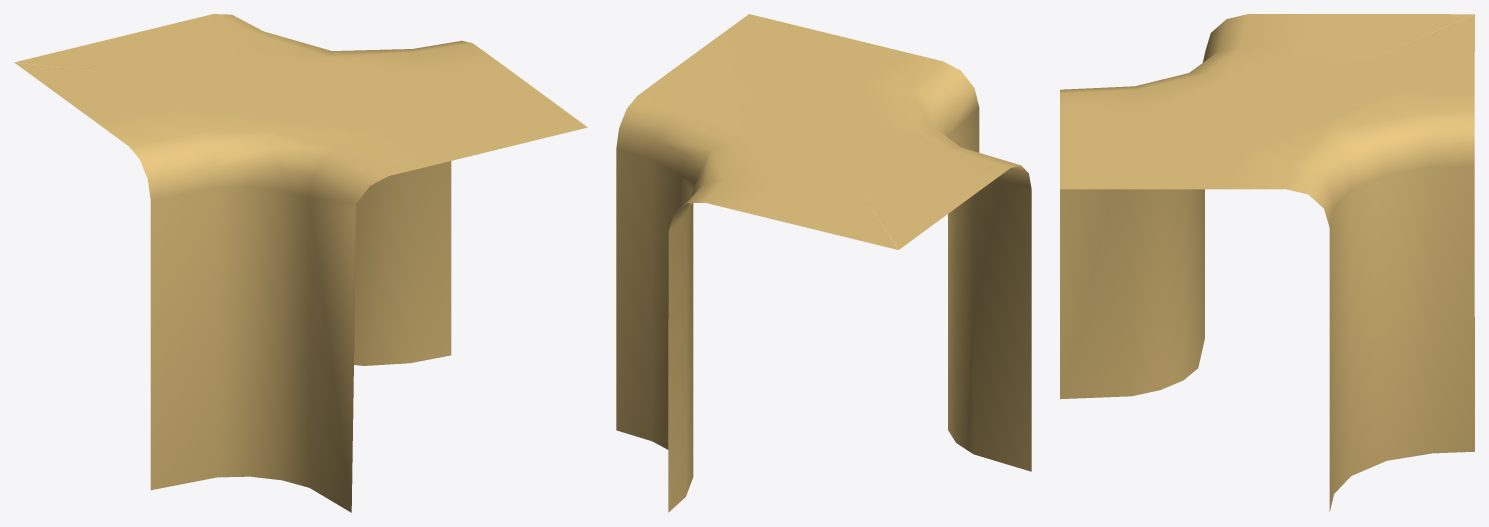
The model's file is SandBlock_MergedCorner_Mesh.fbx.
3 renders of one model, left to right at view 1: azimuth 30°, elevation 25°; view 2: azimuth 150°, elevation 25°; view 3: azimuth 270°, elevation 25°, orthographic. The views are drawn at different scales.
Parts seen in each view (by area): view 1: SandBlock_MergedCorner; view 2: SandBlock_MergedCorner; view 3: SandBlock_MergedCorner.
Boxes of the visible parts, box(x1,y1,x2,y2) form: SandBlock_MergedCorner: box(14, 14, 587, 512); SandBlock_MergedCorner: box(616, 14, 1031, 512); SandBlock_MergedCorner: box(1060, 14, 1474, 511).
Bounding box in the file's own units: 200 × 200 × 172.
